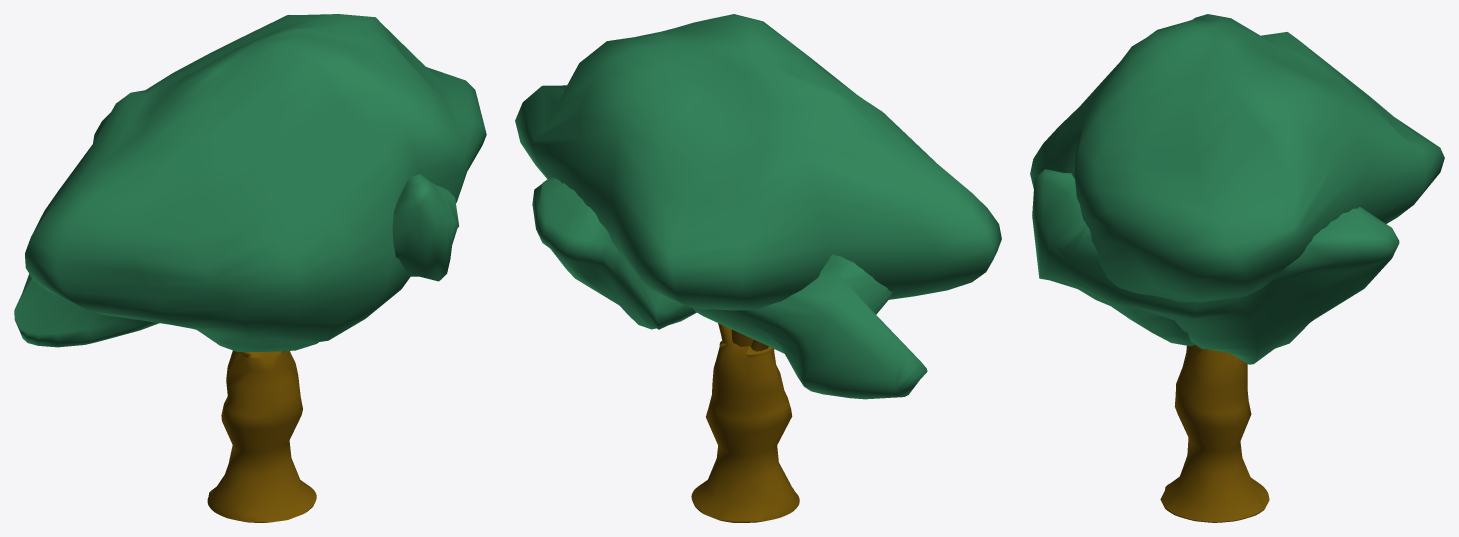
Rendered from Tree.fbx.
3 renders of one model, left to right at view 1: azimuth 30°, elevation 25°; view 2: azimuth 150°, elevation 25°; view 3: azimuth 270°, elevation 25°, orthographic. The views are drawn at different scales.
Visible parts, largest first — view 1: pSphere1, extrudedSurface1, pSphere2, pSphere3; view 2: pSphere1, pSphere3, extrudedSurface1, pSphere2; view 3: pSphere1, pSphere2, extrudedSurface1.
Part boxes in pixels (x1,y1,x2,y2): pSphere1: (25, 14, 486, 351); extrudedSurface1: (207, 350, 316, 522); pSphere2: (392, 174, 458, 281); pSphere3: (14, 274, 159, 347); pSphere1: (515, 14, 1001, 310); pSphere3: (692, 254, 927, 399); extrudedSurface1: (691, 341, 799, 522); pSphere2: (532, 177, 696, 329); pSphere1: (1030, 14, 1444, 346); pSphere2: (1032, 169, 1399, 364); extrudedSurface1: (1160, 345, 1269, 522).
Size of the model in its own units: 41.07 by 39.25 by 30.67.
